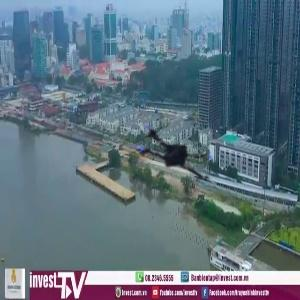drone: (117, 113, 220, 216)
